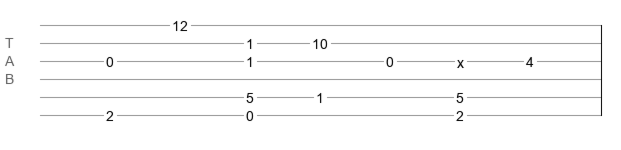0: (106, 54, 114, 64), (246, 108, 254, 118), (386, 54, 394, 64)
1: (246, 36, 254, 46), (246, 54, 254, 64), (316, 90, 324, 100)
10: (312, 36, 328, 46)
12: (172, 18, 188, 28)
2: (106, 108, 114, 118), (456, 108, 464, 118)
4: (526, 54, 534, 64)
5: (246, 90, 254, 100), (456, 90, 464, 100)
x: (457, 55, 464, 63)
